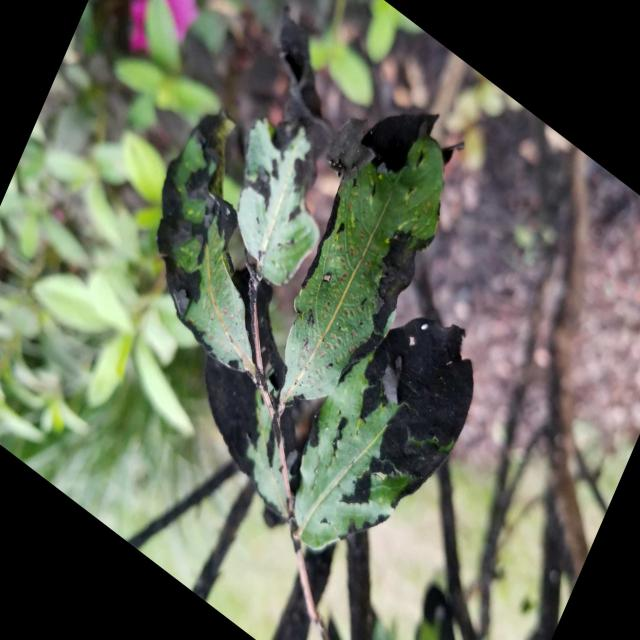Sooty Mold: (162, 75, 489, 609)
